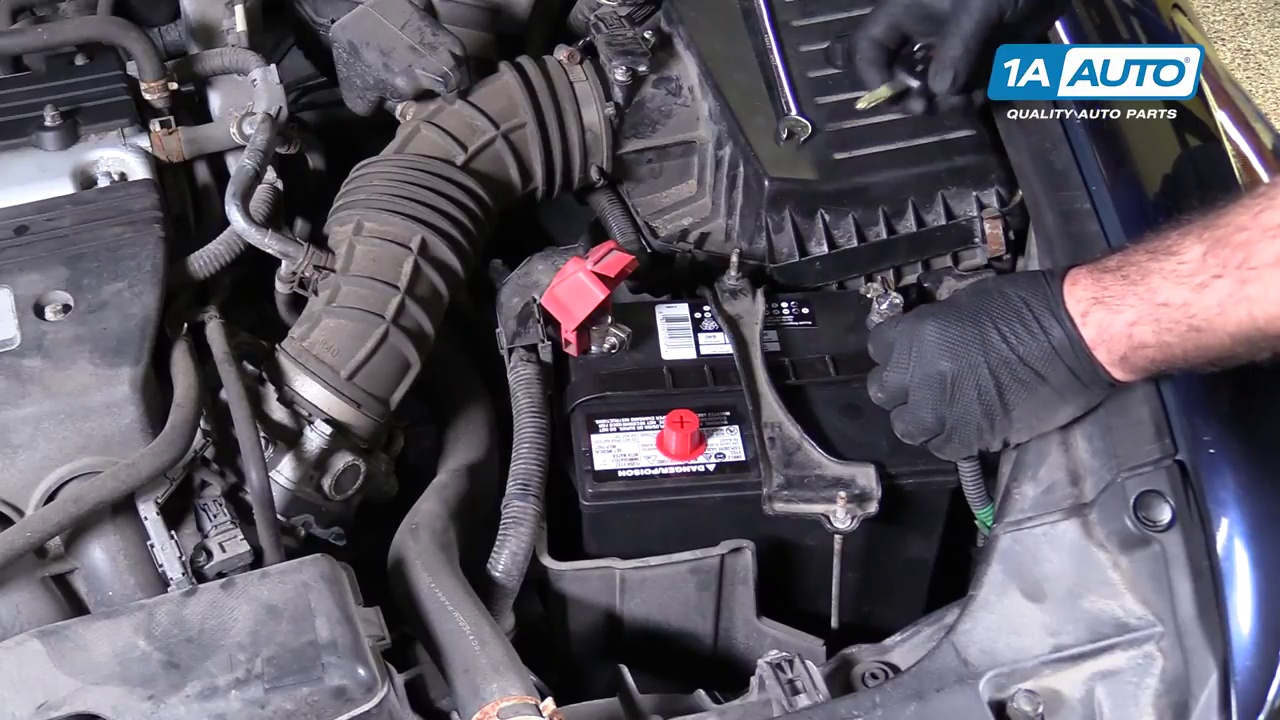battery: (558, 268, 958, 483)
neg_touched: (849, 246, 936, 398)
pos_connected: (522, 229, 652, 363)
